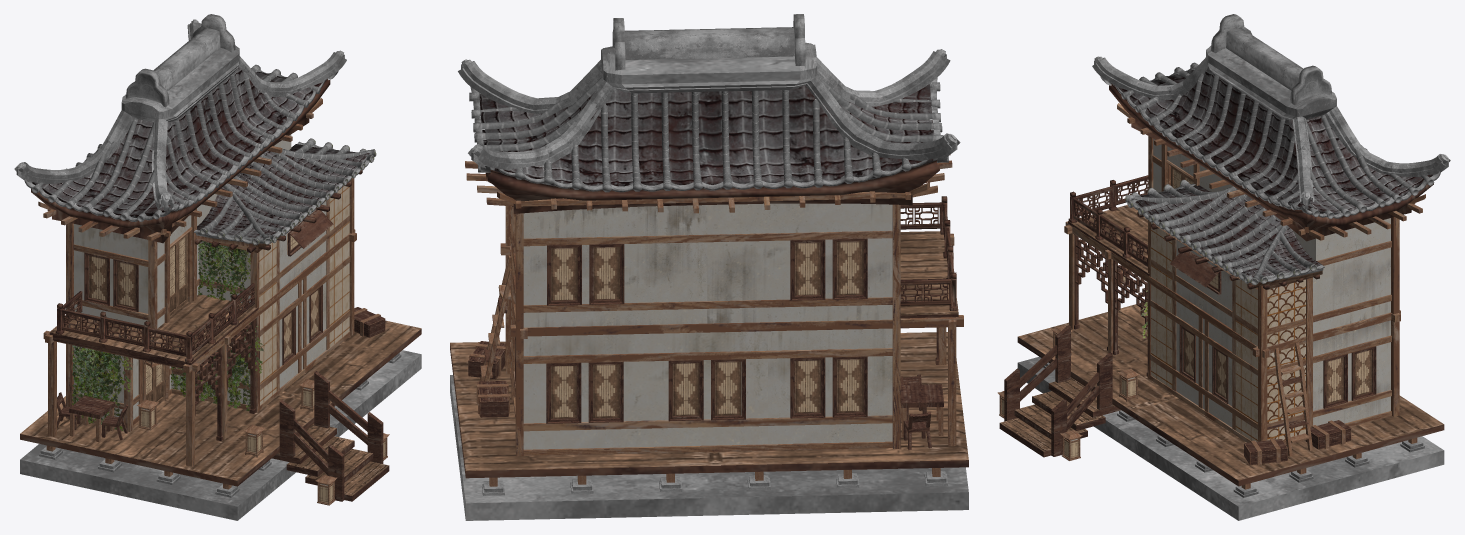
File: house-east-asian.glb
The picture shows the model from 3 angles, left to right: view 1: azimuth 30°, elevation 25°; view 2: azimuth 150°, elevation 25°; view 3: azimuth 270°, elevation 25°; orthographic projection. The views are drawn at different scales.
Visible parts, largest first — view 1: Build_Base_Down, Plane.024, Windows_upper, Lamp_1.007, Chair.003, Windows_down, Door_2nd, Cube.005, Door_1st; view 2: Build_Base_Down, Windows_down, Windows_upper, Cube.005, Chair.003; view 3: Build_Base_Down, Windows_down, Cube.005, Lamp_1.007, Windows_upper.
Part boxes in pixels (x1=…): Build_Base_Down: x1=14, y1=14, x2=421, y2=520; Plane.024: x1=72, y1=241, x2=264, y2=431; Windows_upper: x1=84, y1=209, x2=333, y2=311; Lamp_1.007: x1=137, y1=335, x2=389, y2=505; Chair.003: x1=57, y1=392, x2=128, y2=442; Windows_down: x1=282, y1=285, x2=322, y2=365; Door_2nd: x1=170, y1=233, x2=187, y2=315; Cube.005: x1=354, y1=307, x2=385, y2=337; Door_1st: x1=145, y1=364, x2=164, y2=406; Build_Base_Down: x1=450, y1=14, x2=968, y2=520; Windows_down: x1=515, y1=336, x2=867, y2=423; Windows_upper: x1=547, y1=238, x2=867, y2=305; Cube.005: x1=468, y1=255, x2=511, y2=417; Chair.003: x1=900, y1=374, x2=943, y2=450; Build_Base_Down: x1=999, y1=14, x2=1450, y2=520; Windows_down: x1=1179, y1=325, x2=1376, y2=408; Cube.005: x1=1244, y1=342, x2=1351, y2=465; Lamp_1.007: x1=997, y1=267, x2=1139, y2=460; Windows_upper: x1=1170, y1=251, x2=1221, y2=294.
Bounding box in the file's own units: 7.83 × 6.72 × 7.49.
3 materials, 3 textured.
